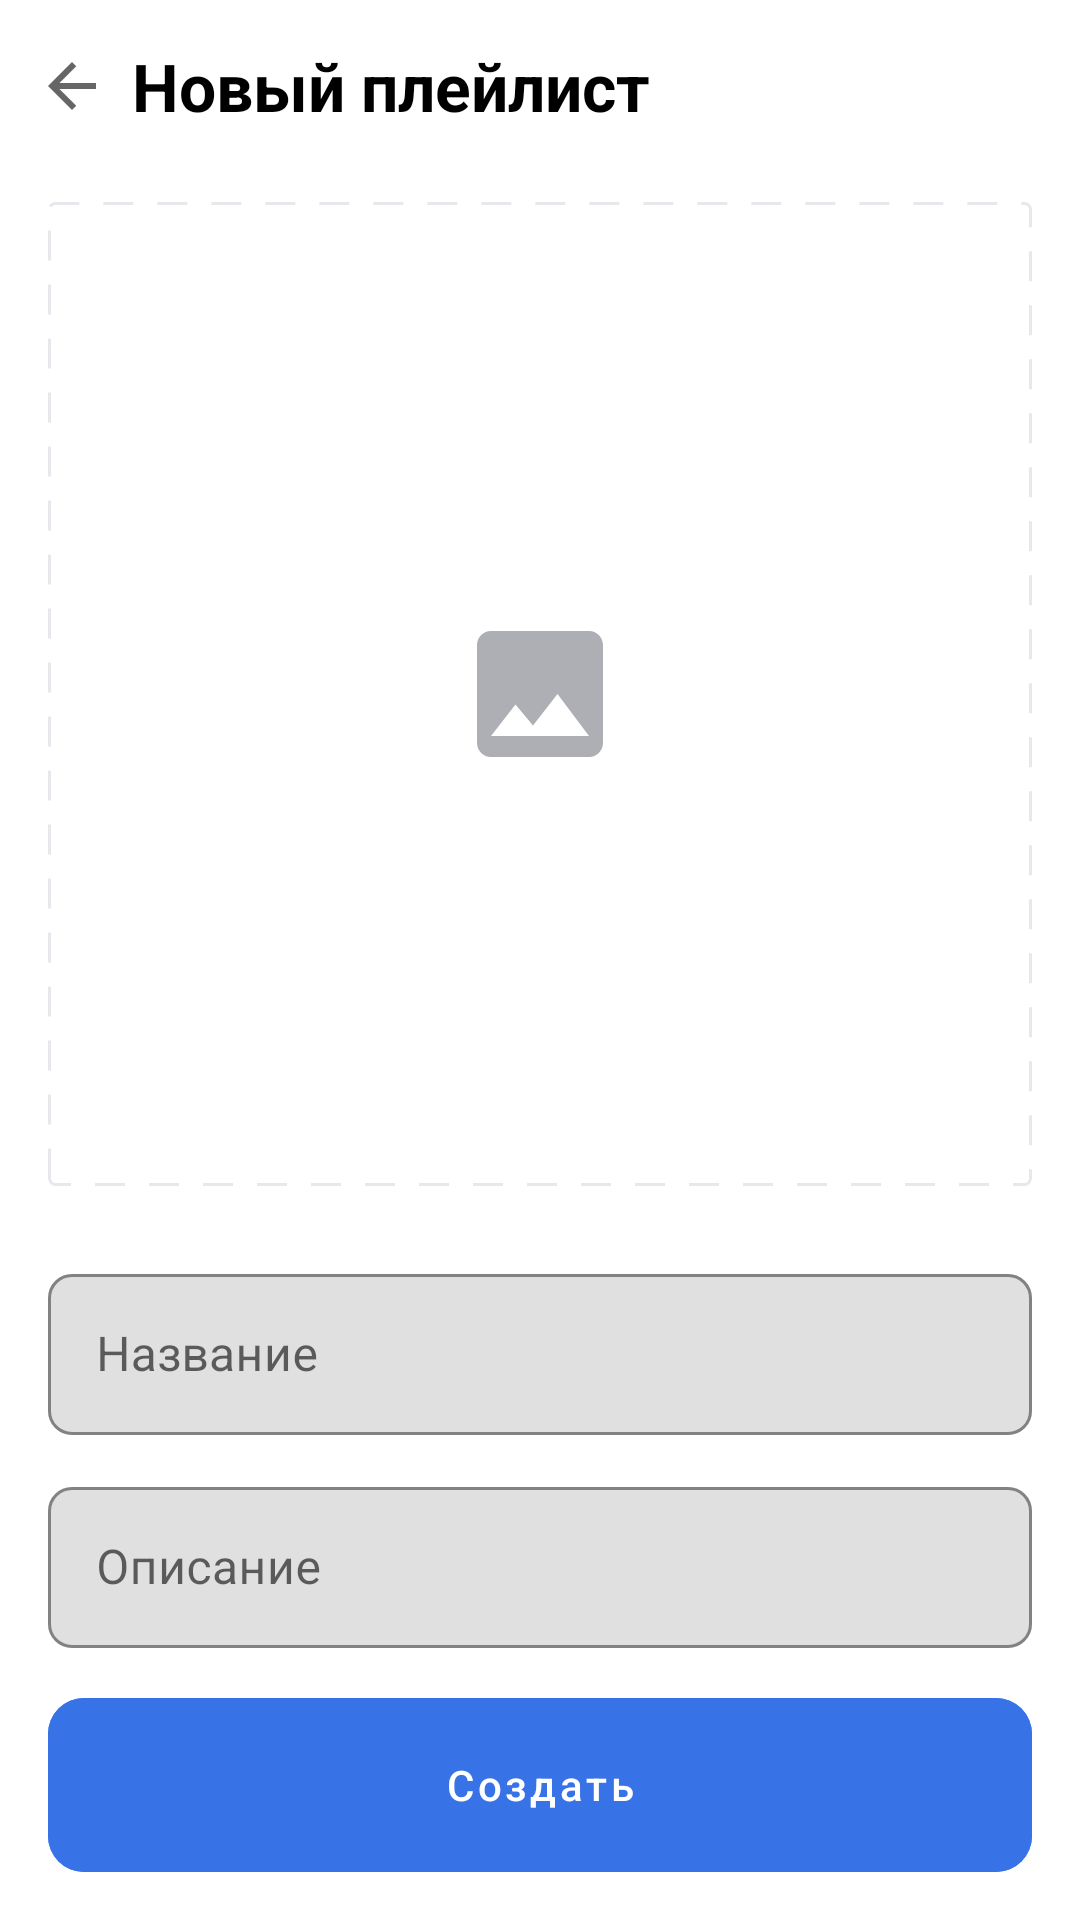

Where to tap for icons on this 1080 x 1920 app screen, as [x,y]:
Назад: [72,86]
